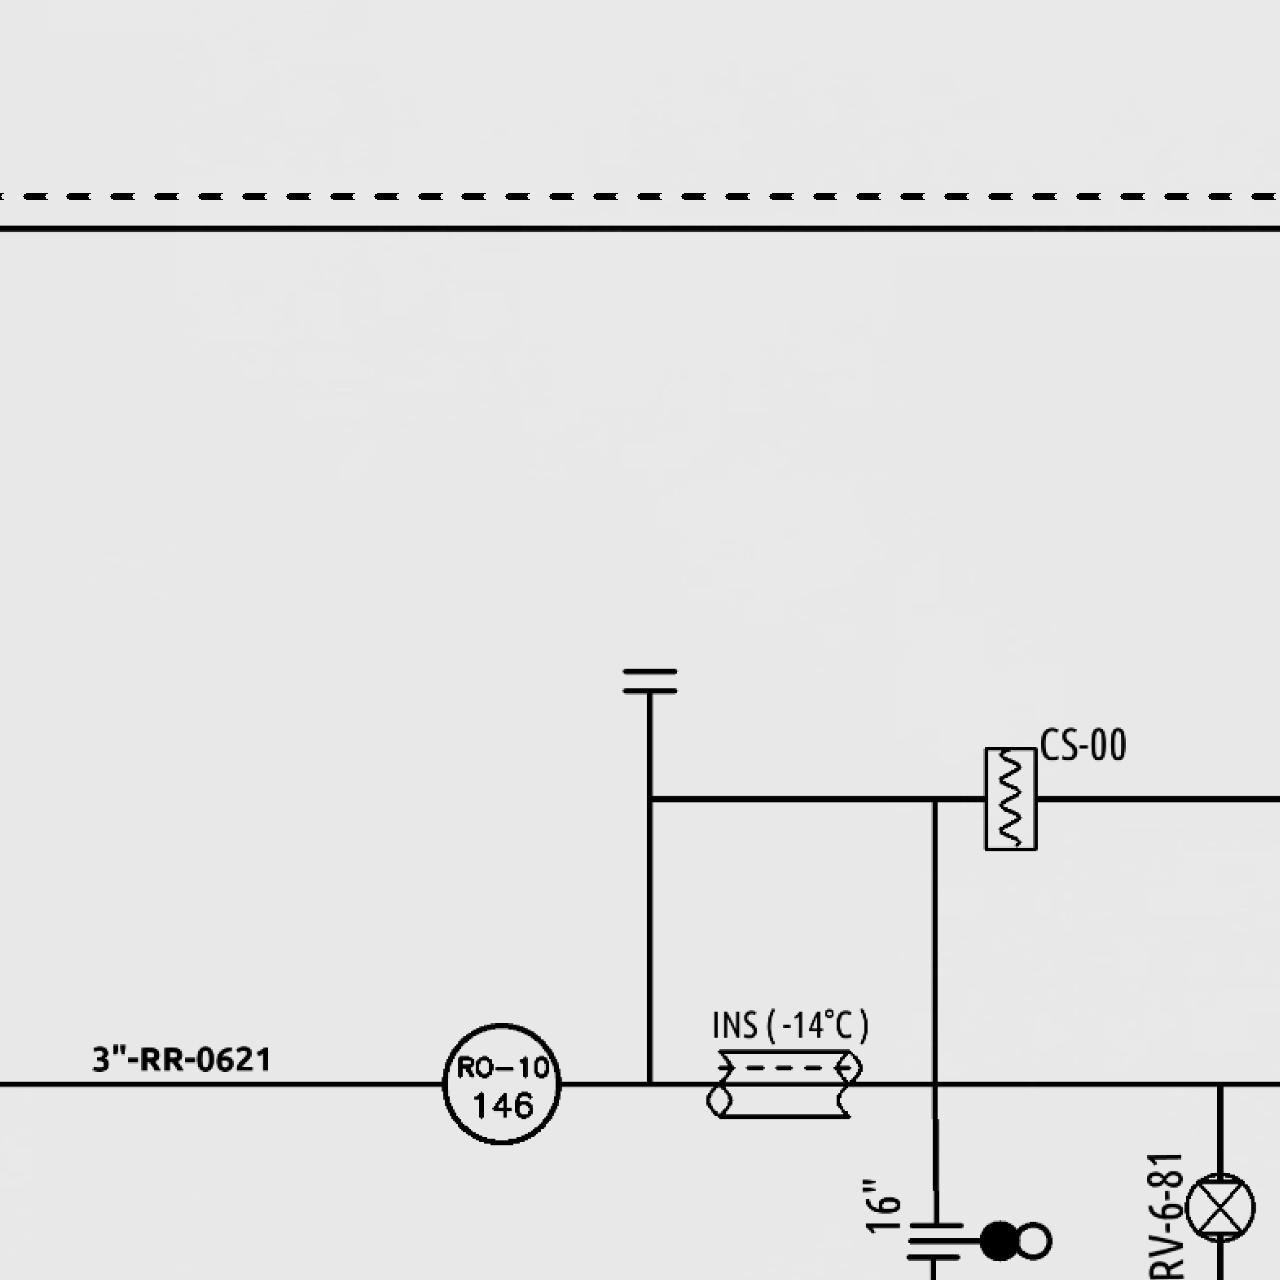Control-Panel: (435, 1017, 566, 1148)
